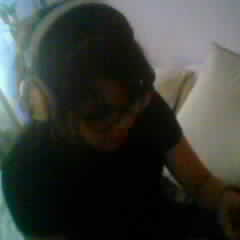without_mask: (74, 78, 141, 154)
